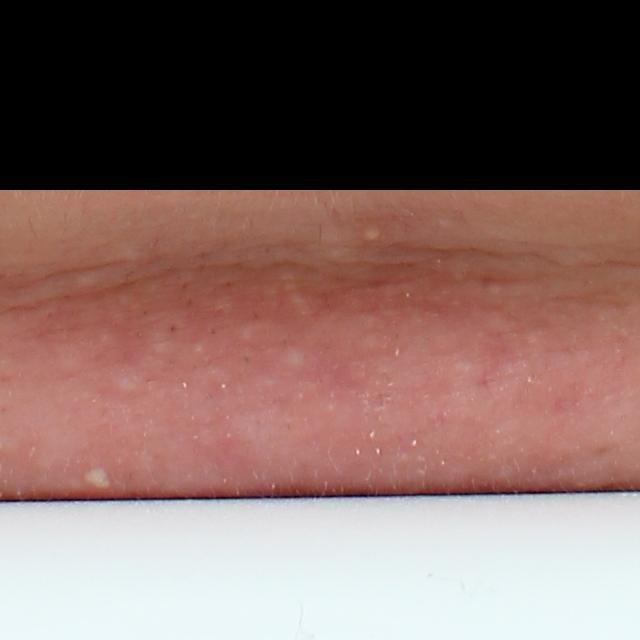pustule: (80, 464, 114, 493)
